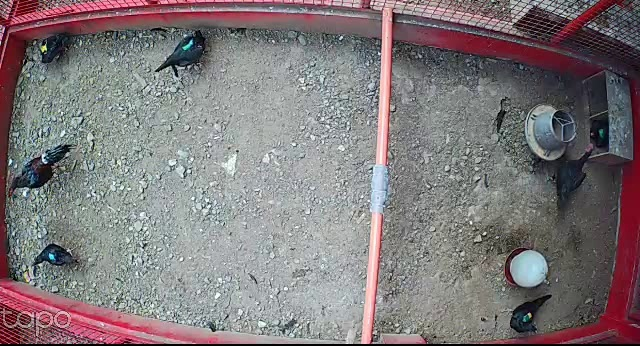Chicken: (551, 142, 594, 210), (155, 28, 208, 78), (503, 292, 554, 336), (30, 241, 81, 270), (37, 31, 72, 67)
Drinker: (503, 247, 551, 289)
Feeder: (525, 102, 577, 162)
Rooster: (7, 141, 74, 199)
Saddle_Color_Blue: (49, 252, 56, 260)
Saddle_Color_Yellow: (40, 43, 48, 53)
Saddle_Color_YellowGreen: (523, 311, 533, 321)
